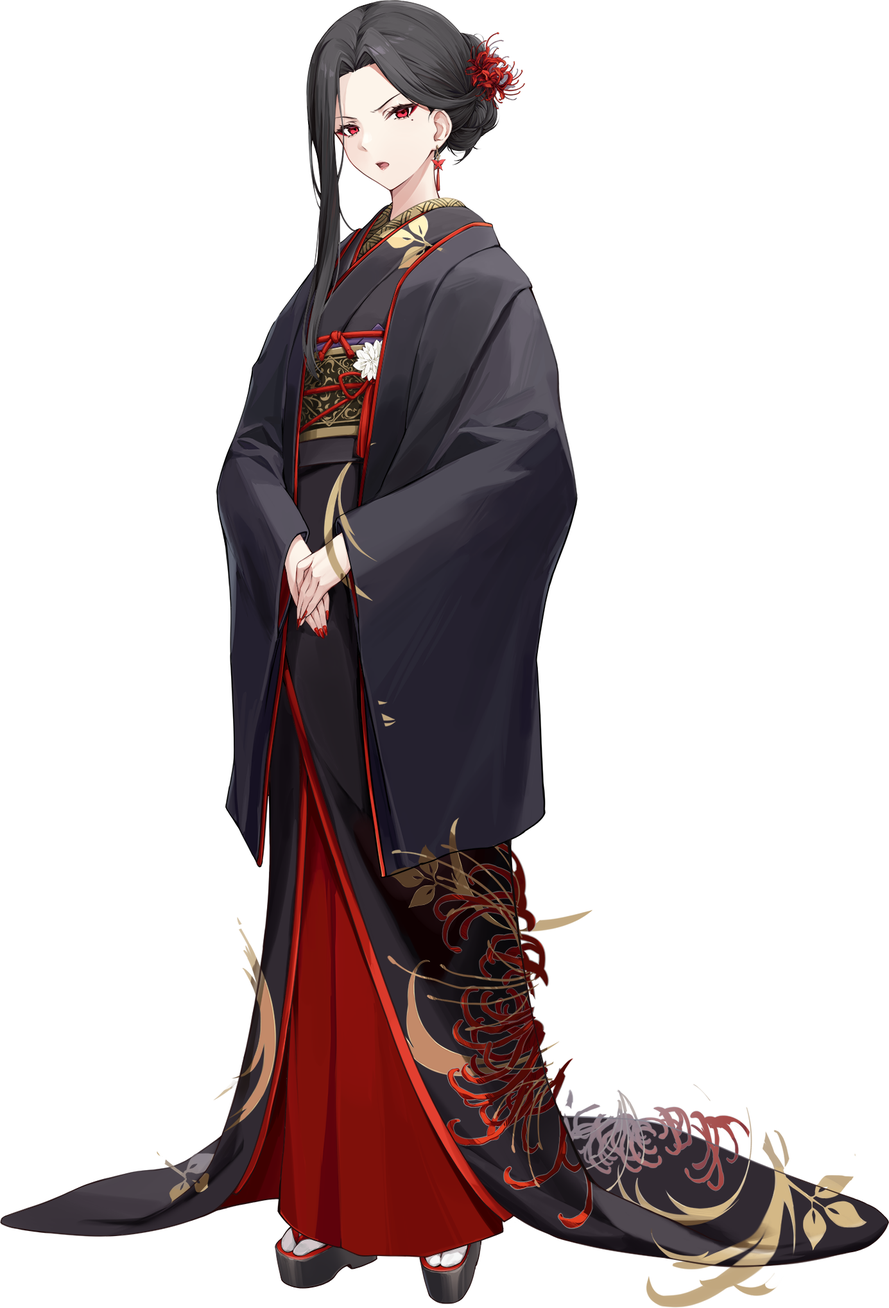person: (150, 0, 657, 1265)
